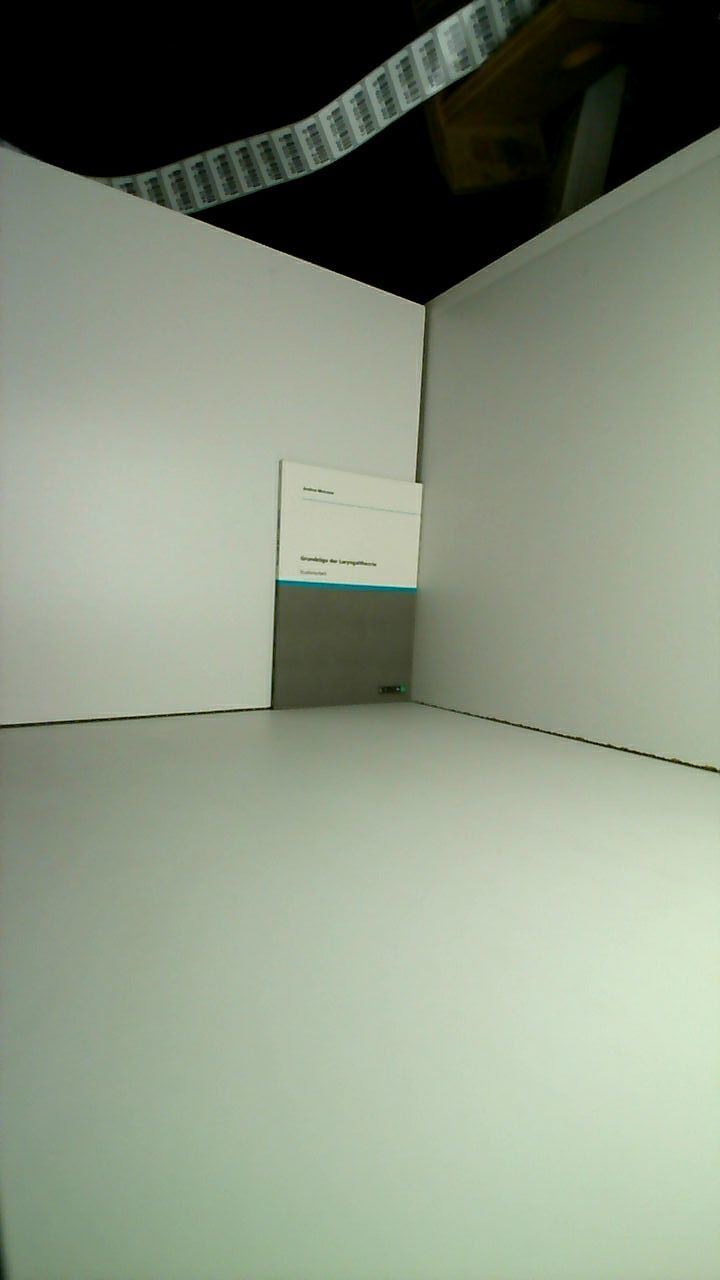book: (247, 442, 442, 734)
